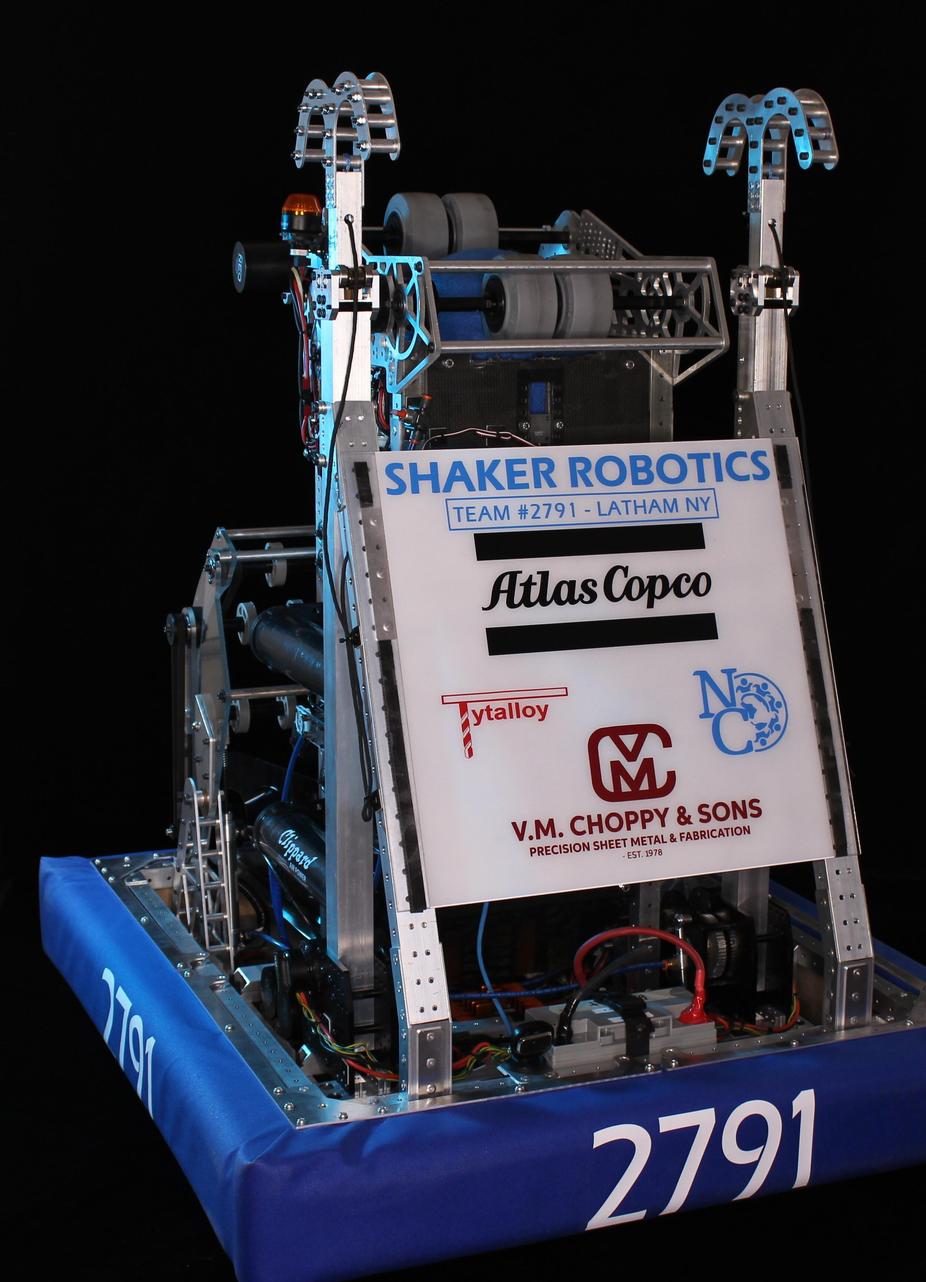robot: (22, 45, 926, 1282)
